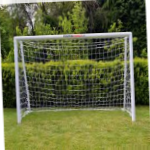goals: (10, 32, 137, 126)
